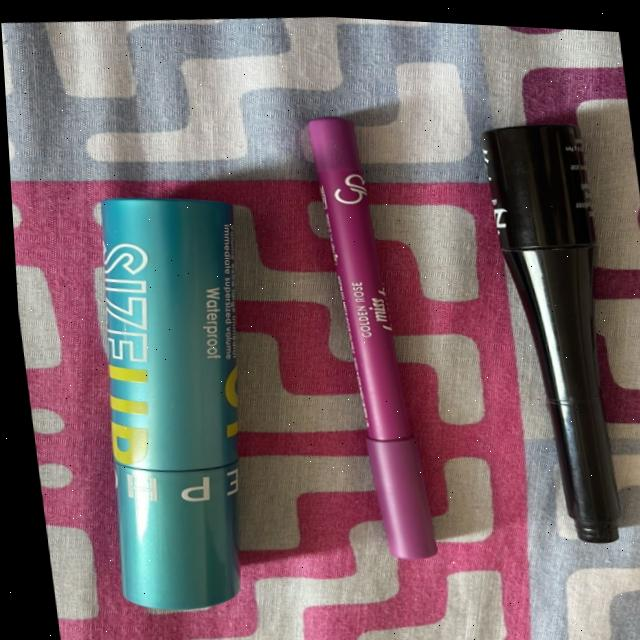lip liner: (260, 75, 445, 577), (457, 81, 640, 559)
lip stick: (22, 175, 293, 640)
